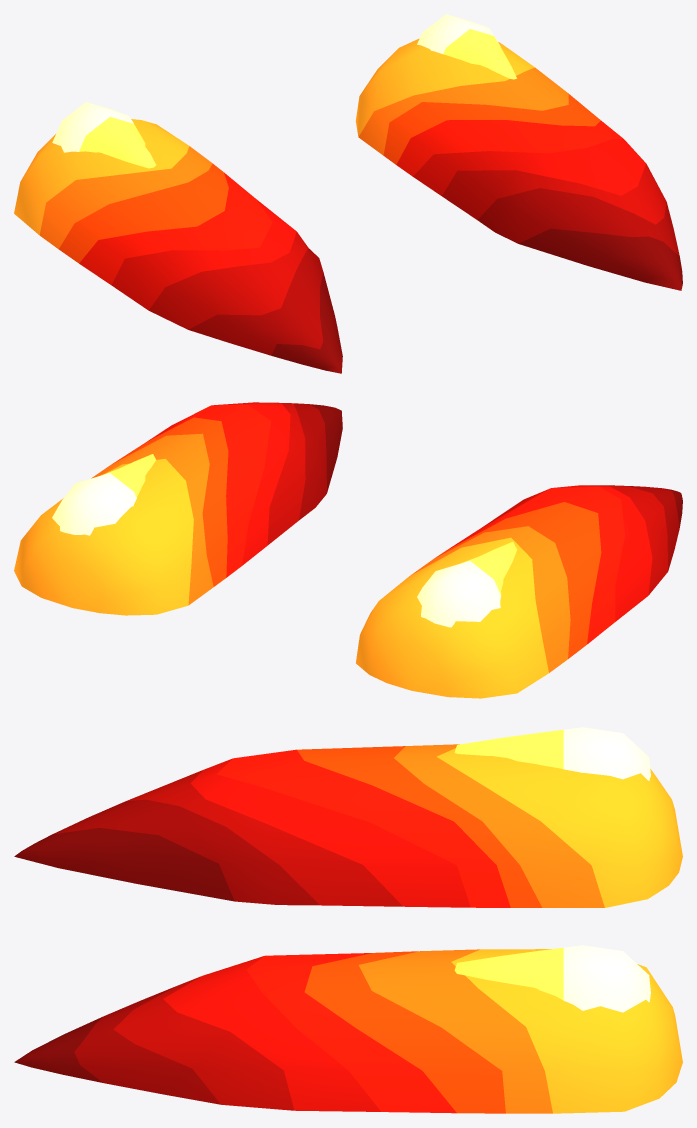
Rendered from shot_ejet.glb.
The picture shows the model from 3 angles, top to bottom: view 1: azimuth 30°, elevation 25°; view 2: azimuth 150°, elevation 25°; view 3: azimuth 270°, elevation 25°; orthographic projection. The views are drawn at different scales.
Parts seen in each view (by area): view 1: shot_ejet_bolt1, shot_ejet_bolt0, shot_ejet_core0, shot_ejet_core1; view 2: shot_ejet_bolt1, shot_ejet_bolt0, shot_ejet_core0, shot_ejet_core1; view 3: shot_ejet_bolt0, shot_ejet_bolt1, shot_ejet_core1, shot_ejet_core0.
Boxes of the visible parts, x1,y1,x2,y2 form: shot_ejet_bolt1: (355, 38, 682, 290); shot_ejet_bolt0: (14, 119, 342, 373); shot_ejet_core0: (52, 102, 156, 168); shot_ejet_core1: (417, 14, 516, 79); shot_ejet_bolt1: (14, 402, 342, 615); shot_ejet_bolt0: (356, 485, 682, 698); shot_ejet_core0: (417, 542, 517, 627); shot_ejet_core1: (52, 454, 155, 535); shot_ejet_bolt0: (14, 744, 682, 907); shot_ejet_bolt1: (14, 949, 682, 1113); shot_ejet_core1: (454, 945, 650, 1012); shot_ejet_core0: (454, 727, 650, 780).
Size of the model in its own units: 12 by 2.24 by 11.
